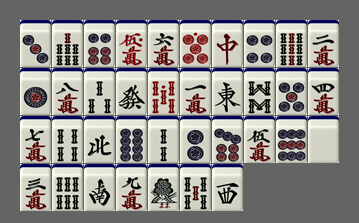0m: (116, 20, 147, 67)
0p: (180, 20, 211, 67)
0s: (148, 68, 179, 115)
1m: (180, 68, 211, 115)
1p: (20, 68, 51, 115)
1s: (148, 164, 179, 211)
1z: (212, 68, 243, 115)
2m: (308, 20, 339, 67)
2p: (180, 116, 211, 163)
2s: (148, 116, 179, 163)
2z: (84, 164, 115, 211)
3m: (20, 164, 51, 211)
3p: (20, 20, 51, 67)
3s: (84, 68, 115, 115)
3z: (212, 164, 243, 211)
4m: (308, 68, 339, 115)
4p: (244, 20, 275, 67)
4s: (52, 116, 83, 163)
4z: (84, 116, 115, 163)
5m: (244, 116, 275, 163)
5p: (276, 68, 307, 115)
5s: (180, 164, 211, 211)
5z: (308, 116, 339, 163)
6m: (148, 20, 179, 67)
6p: (84, 20, 115, 67)
6s: (52, 164, 83, 211)
6z: (116, 68, 147, 115)
7m: (20, 116, 51, 163)
7p: (212, 116, 243, 163)
7s: (52, 20, 83, 67)
7z: (212, 20, 243, 67)
8m: (52, 68, 83, 115)
8p: (116, 116, 147, 163)
8s: (244, 68, 275, 115)
9m: (116, 164, 147, 211)
9p: (276, 116, 307, 163)
9s: (276, 20, 307, 67)
